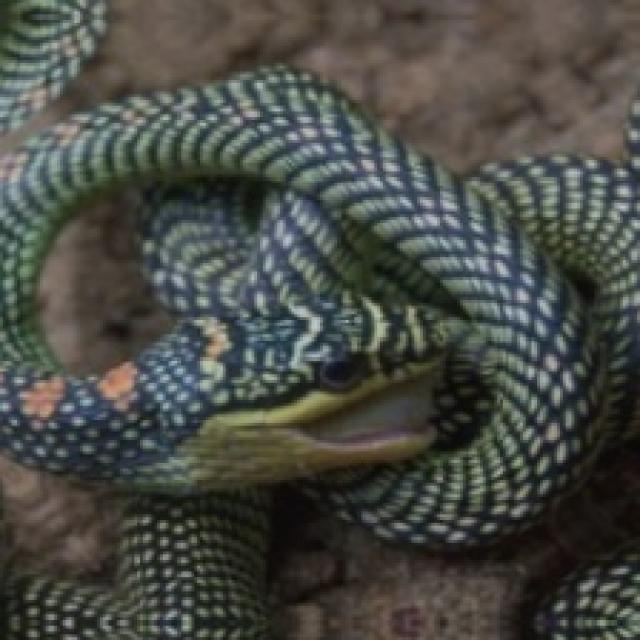paradise tree snake: (0, 0, 637, 637), (80, 186, 471, 491), (260, 271, 337, 371)
